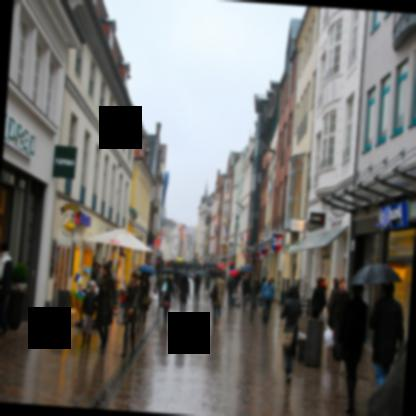backpack: (210, 277, 218, 302)
handbag: (282, 301, 300, 350), (109, 275, 113, 311), (142, 291, 152, 305), (162, 279, 167, 297)
suitcase: (304, 319, 324, 367)
